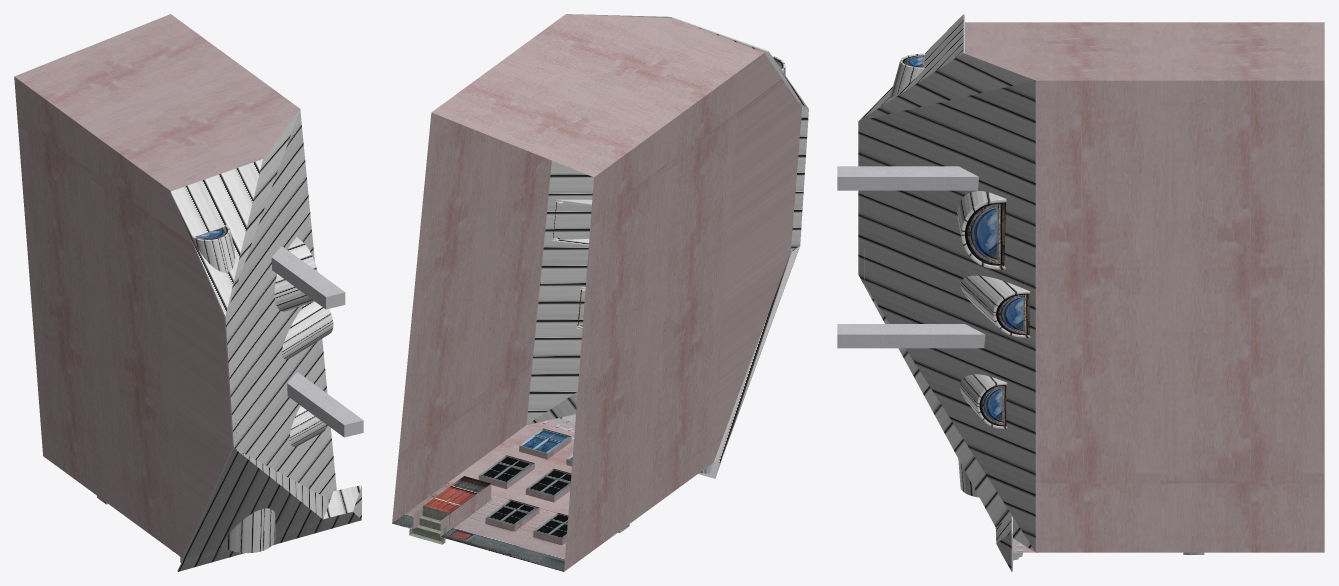
File: Niguliste8.obj
The picture shows the model from 3 angles, left to right: view 1: azimuth 30°, elevation 25°; view 2: azimuth 150°, elevation 25°; view 3: azimuth 270°, elevation 25°; orthographic projection. The views are drawn at different scales.
Visible parts, largest first — view 1: _7; view 2: _7; view 3: _7.
Boxes of the visible parts, x1=… form: _7: x1=14, y1=14, x2=363, y2=571; _7: x1=392, y1=14, x2=808, y2=571; _7: x1=837, y1=14, x2=1324, y2=571.
Bounding box in the file's own units: 10.41 × 19.71 × 18.46.
